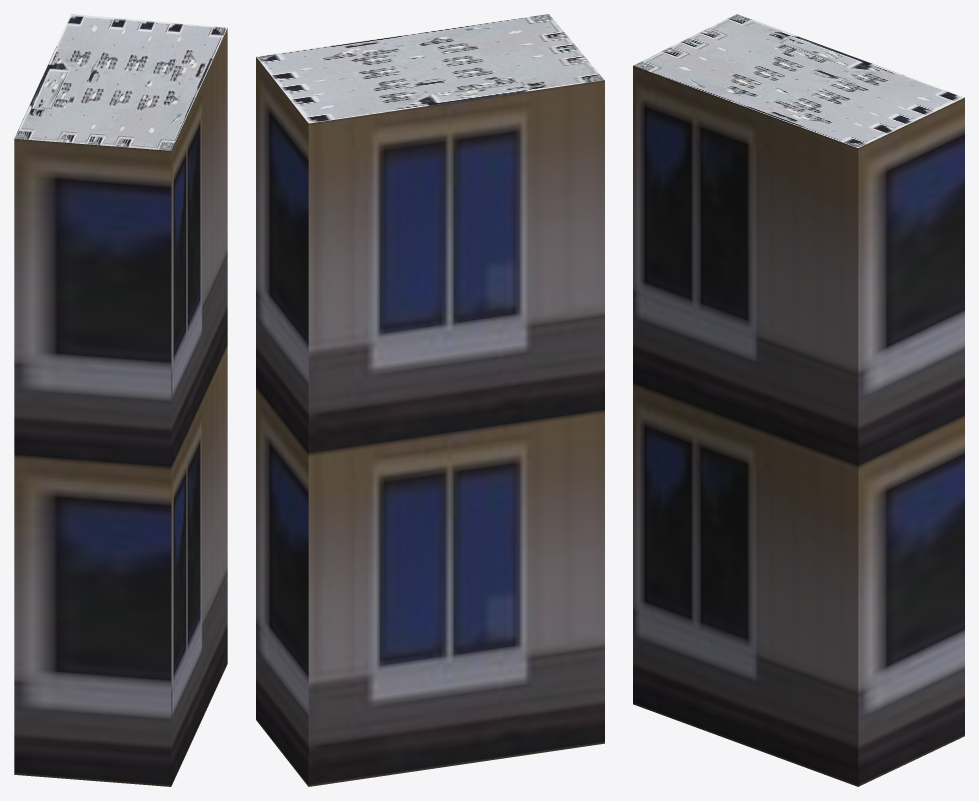
File: ResTex__501.fbx
3 renders of one model, left to right at view 1: azimuth 30°, elevation 25°; view 2: azimuth 150°, elevation 25°; view 3: azimuth 270°, elevation 25°, orthographic. The views are drawn at different scales.
Visible parts, largest first — view 1: CityEngineMaterial_5_m, CityEngineMaterial_8_m; view 2: CityEngineMaterial_5_m, CityEngineMaterial_8_m; view 3: CityEngineMaterial_5_m, CityEngineMaterial_8_m.
Part boxes in pixels (bbox=[...]): CityEngineMaterial_5_m: bbox=[14, 28, 227, 786]; CityEngineMaterial_8_m: bbox=[14, 14, 227, 150]; CityEngineMaterial_5_m: bbox=[256, 57, 604, 786]; CityEngineMaterial_8_m: bbox=[256, 14, 604, 123]; CityEngineMaterial_5_m: bbox=[633, 65, 964, 786]; CityEngineMaterial_8_m: bbox=[633, 14, 964, 147].
Size of the model in its own units: 2.7 by 6 by 2.83.
Materials: 2 (2 with a texture image).
